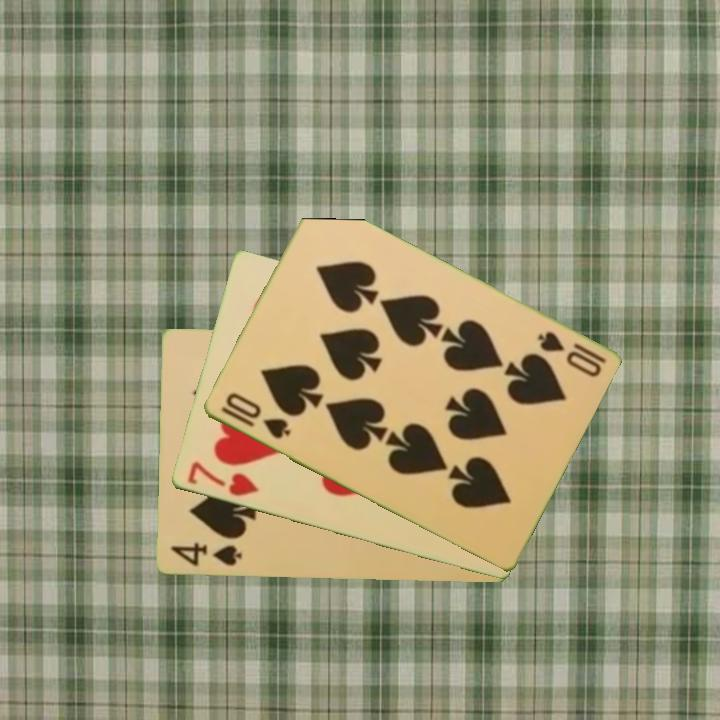10s: (217, 389, 293, 442), (533, 328, 609, 381)
4s: (166, 539, 244, 569)
7h: (183, 458, 262, 500)
